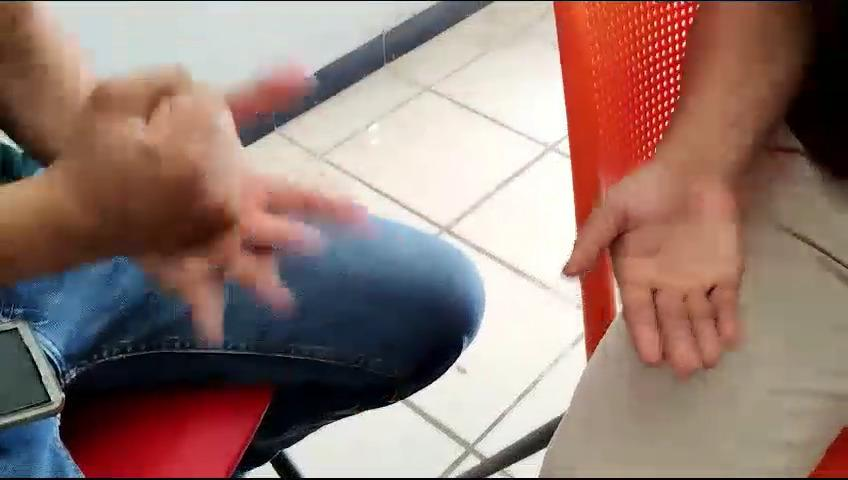Paper: (555, 137, 773, 380)
Stone: (65, 72, 248, 262)
